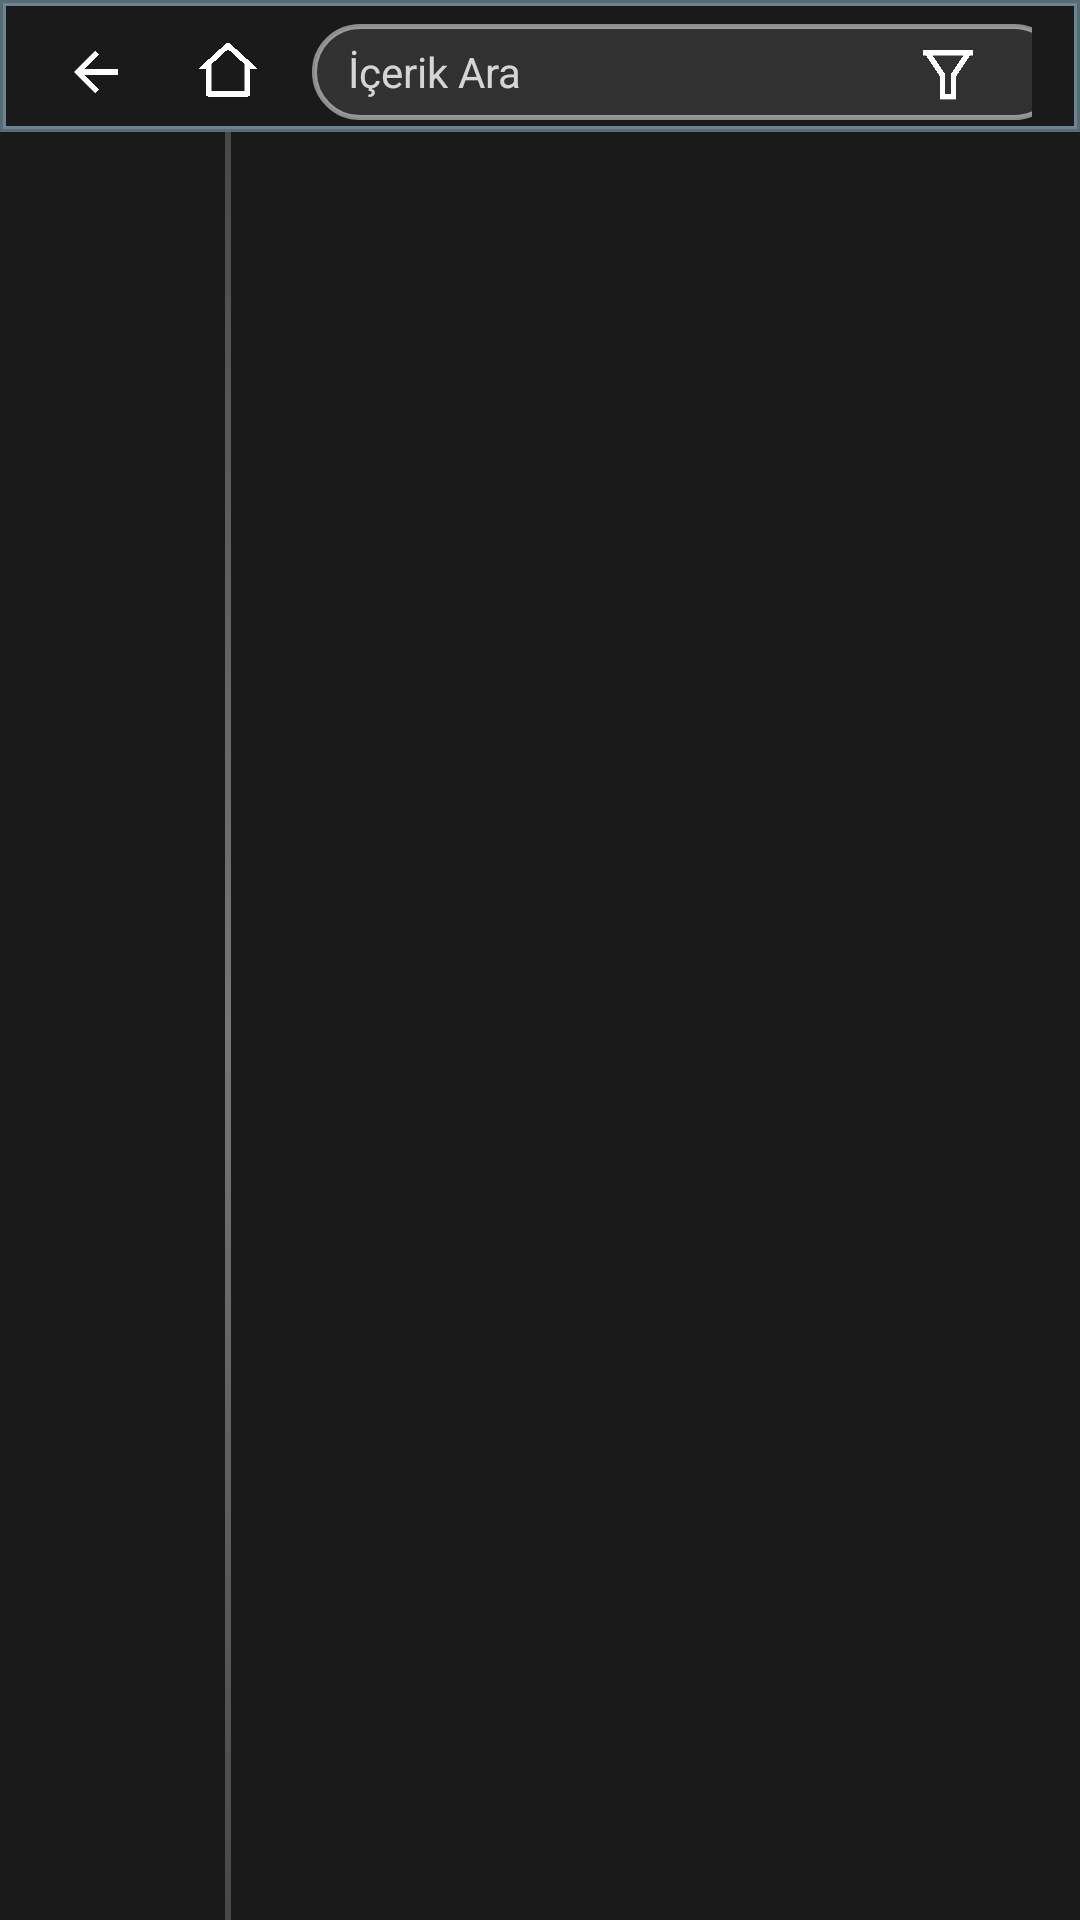

Screen size 1080*1920. Icon name, then its box in pixels as (x1,y1,x2,y2):
Ana sayfaya git: (199,43,257,97)
Filtre: (900,24,996,120)
Geri dön: (74,51,118,93)
